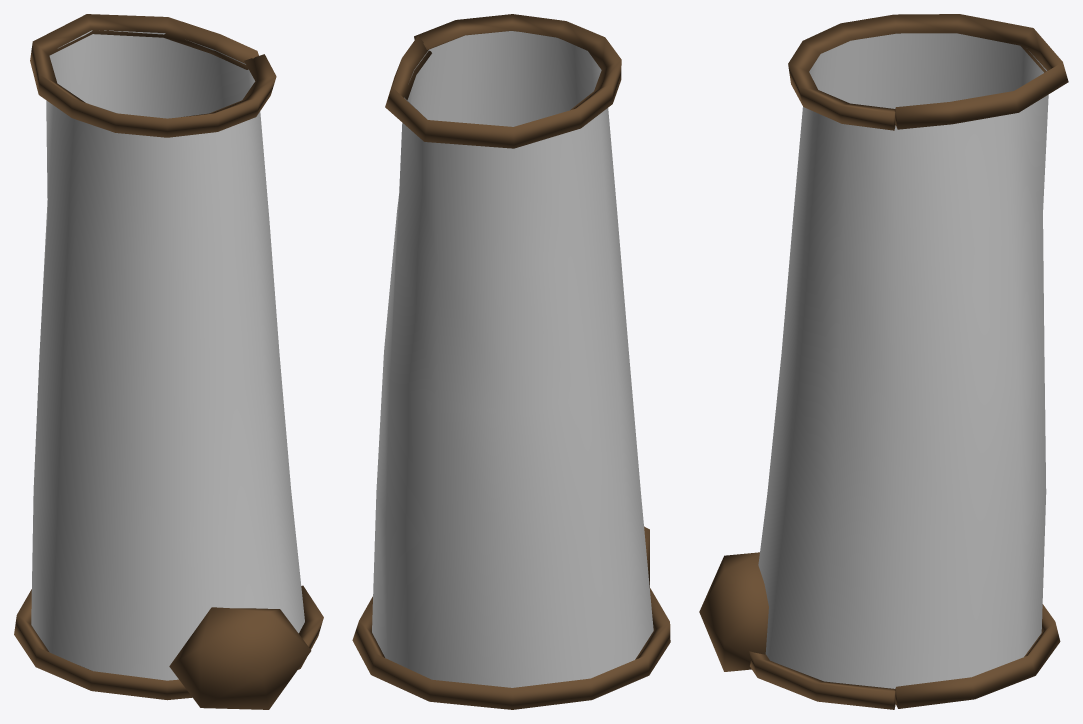
File: timber_armor_greave.L.glb
3 renders of one model, left to right at view 1: azimuth 30°, elevation 25°; view 2: azimuth 150°, elevation 25°; view 3: azimuth 270°, elevation 25°, orthographic. The views are drawn at different scales.
Visible parts, largest first — view 1: timber_armor_greave.L; view 2: timber_armor_greave.L; view 3: timber_armor_greave.L.
Part boxes in pixels (box(x1,y1,x2,y2)): timber_armor_greave.L: box(14, 14, 323, 709); timber_armor_greave.L: box(352, 14, 670, 709); timber_armor_greave.L: box(699, 14, 1068, 709).
Size of the model in its own units: 0.1942 by 0.4045 by 0.2254.
